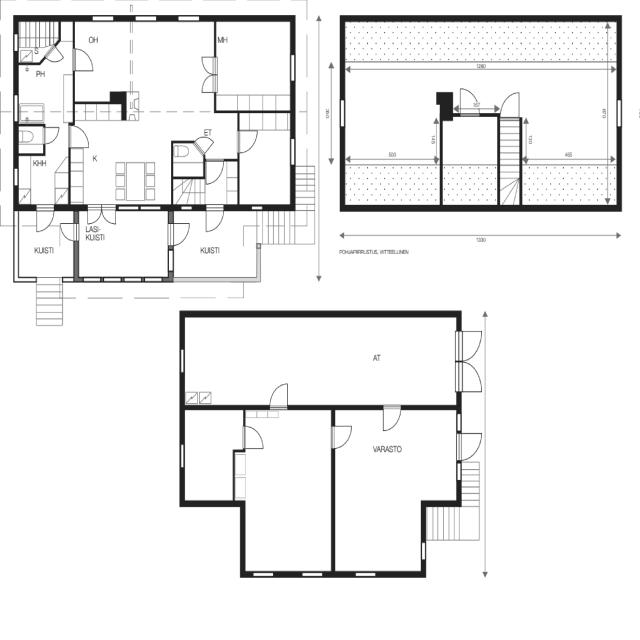door: (455, 327, 485, 396), (456, 426, 486, 461), (496, 88, 525, 123), (198, 52, 220, 98), (85, 201, 119, 228), (454, 85, 482, 117), (70, 44, 97, 76), (266, 379, 293, 410), (328, 422, 356, 451), (166, 218, 193, 248), (66, 122, 93, 151), (240, 422, 266, 452), (233, 126, 260, 154), (380, 401, 403, 433), (202, 202, 225, 234), (33, 203, 56, 234), (204, 156, 225, 185), (58, 219, 81, 242), (193, 132, 215, 154), (42, 122, 60, 146)
window: (84, 270, 159, 290), (281, 130, 299, 181), (87, 10, 118, 26), (174, 10, 204, 26), (131, 10, 161, 26), (613, 95, 625, 132), (336, 96, 349, 130), (350, 567, 380, 581), (176, 346, 188, 380), (287, 50, 298, 85), (176, 440, 188, 472), (298, 568, 327, 581), (288, 135, 298, 172), (250, 568, 278, 580), (10, 92, 21, 122), (453, 459, 464, 484), (418, 538, 429, 562), (10, 164, 20, 190), (248, 201, 266, 215), (10, 30, 20, 54), (178, 201, 195, 213)
zone: (192, 316, 461, 409), (329, 404, 459, 554), (238, 406, 334, 574), (69, 105, 169, 208), (128, 18, 215, 121), (214, 19, 294, 113), (79, 207, 170, 280), (181, 407, 245, 501), (441, 111, 499, 211), (237, 111, 294, 208), (73, 20, 132, 101), (14, 54, 73, 125), (171, 142, 205, 179), (13, 124, 44, 157)
